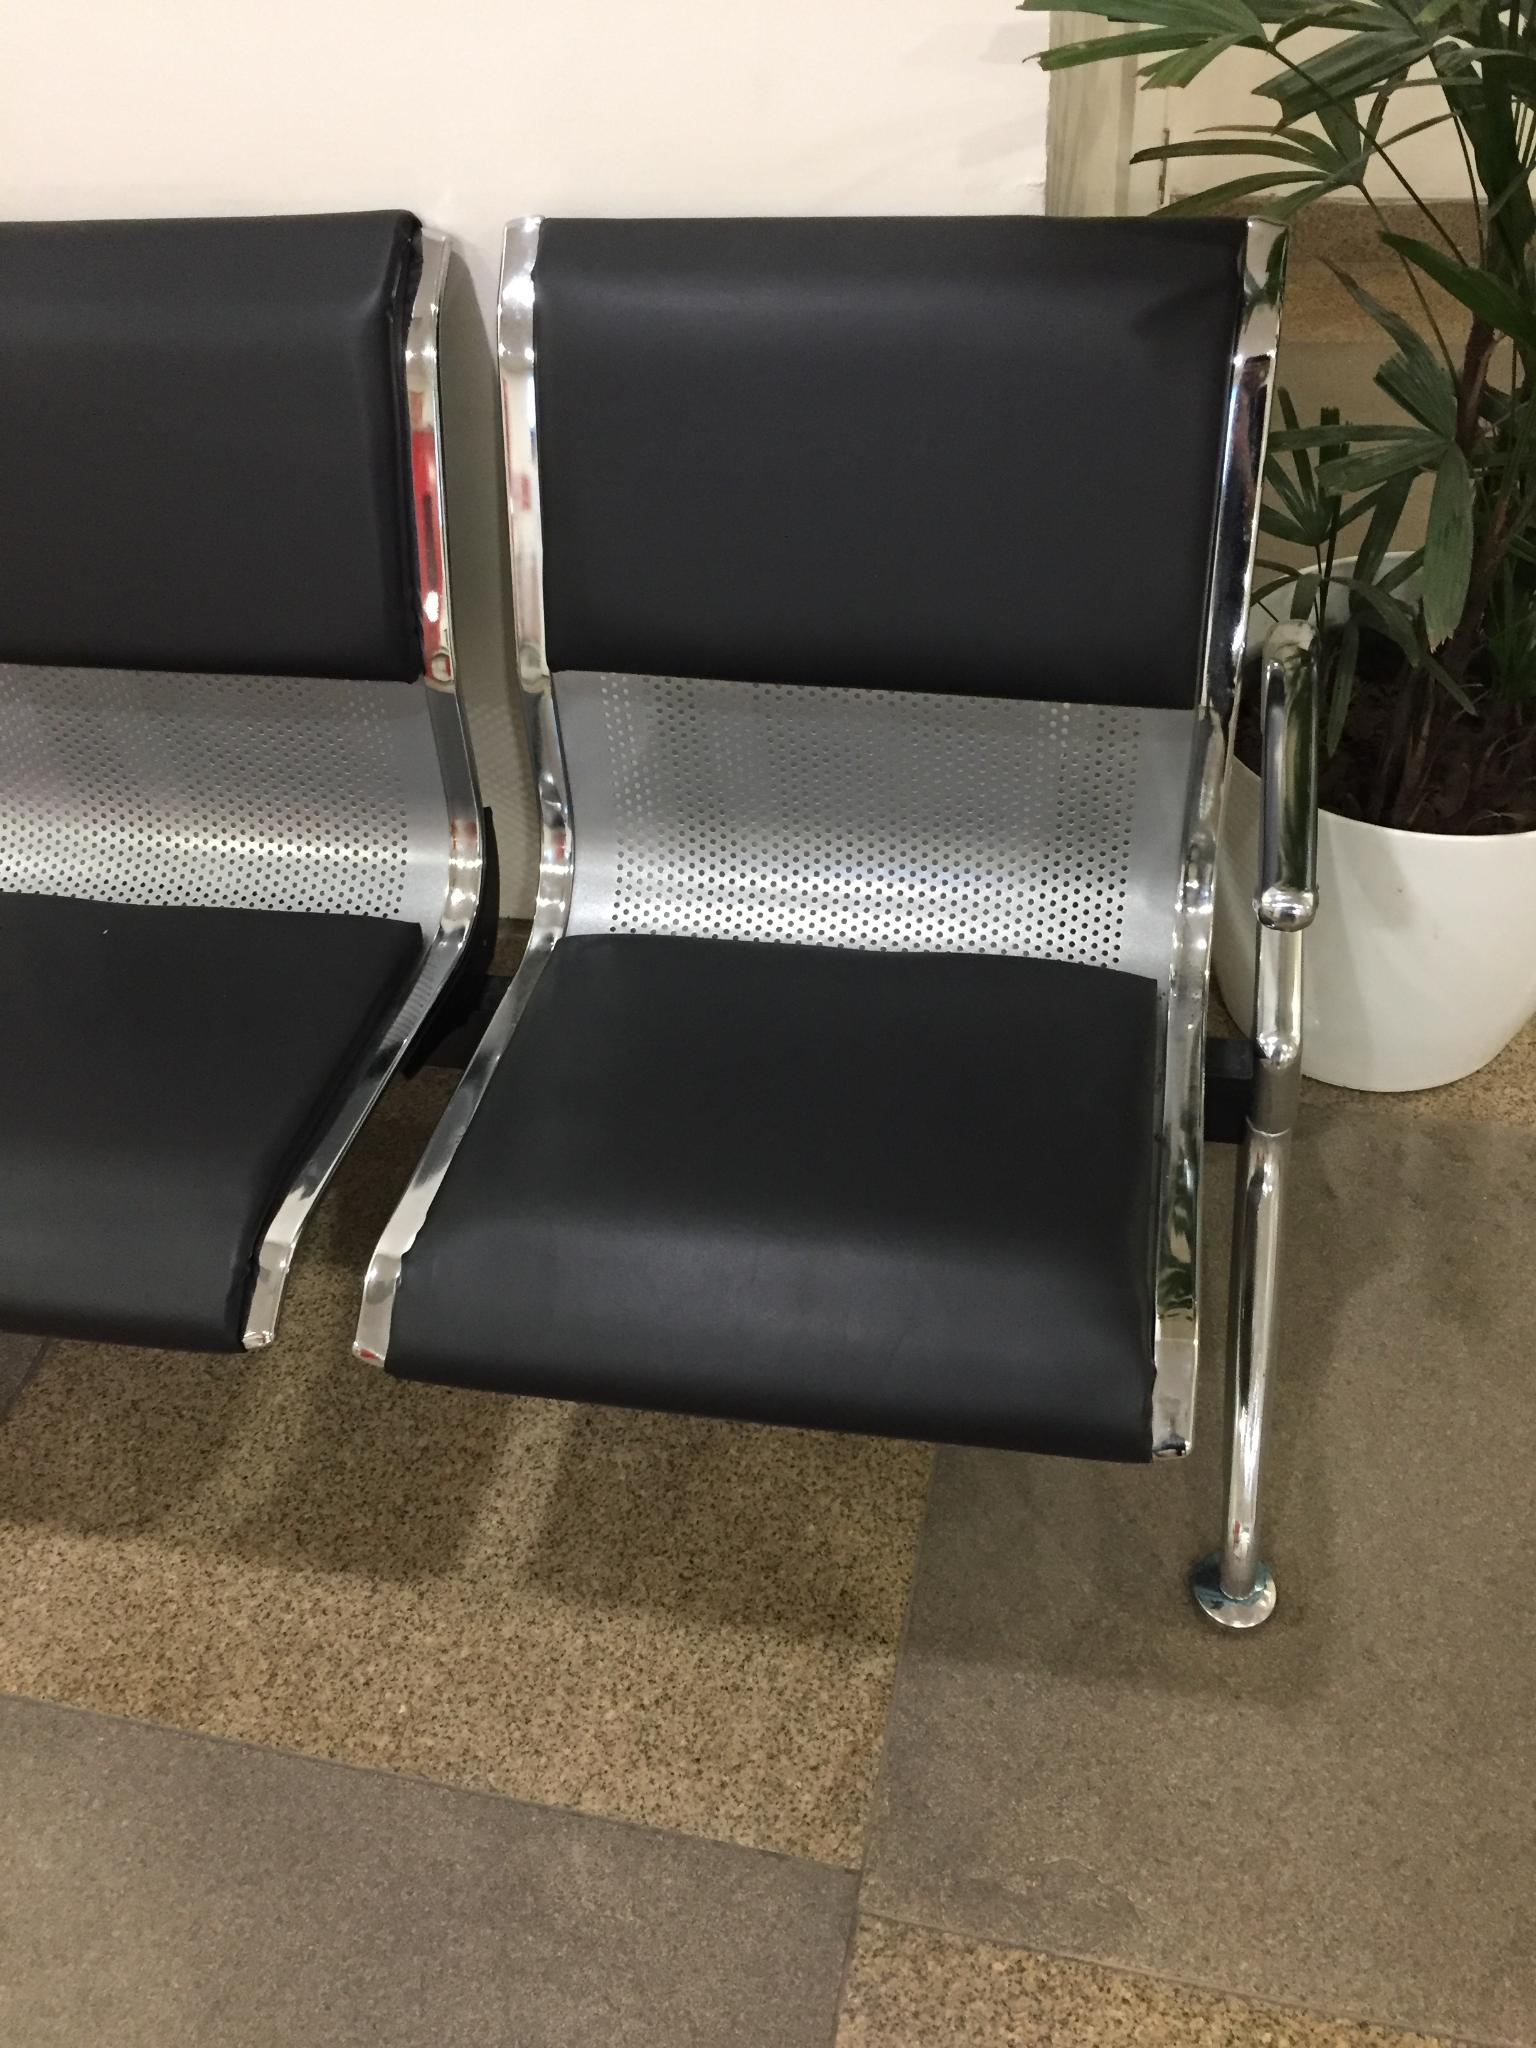chair: (352, 211, 1321, 1629), (0, 208, 495, 1355)
